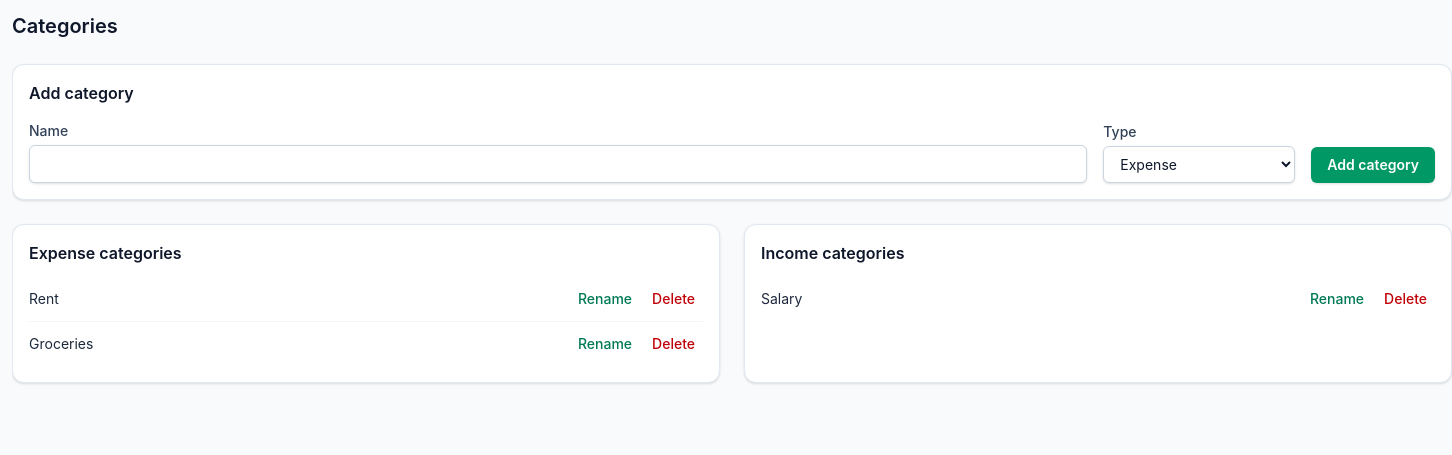
CategoriesView › explains why a category that is still used cannot be deleted
Expected: the text "Rent" is shown, top-left (29, 289), bottom-right (59, 309)
What coordinates should you click on to do the following:
click the button with aria-label "Delete Rent"
I would click on:
 (674, 299)
Its box is top-left (644, 285), bottom-right (703, 313).
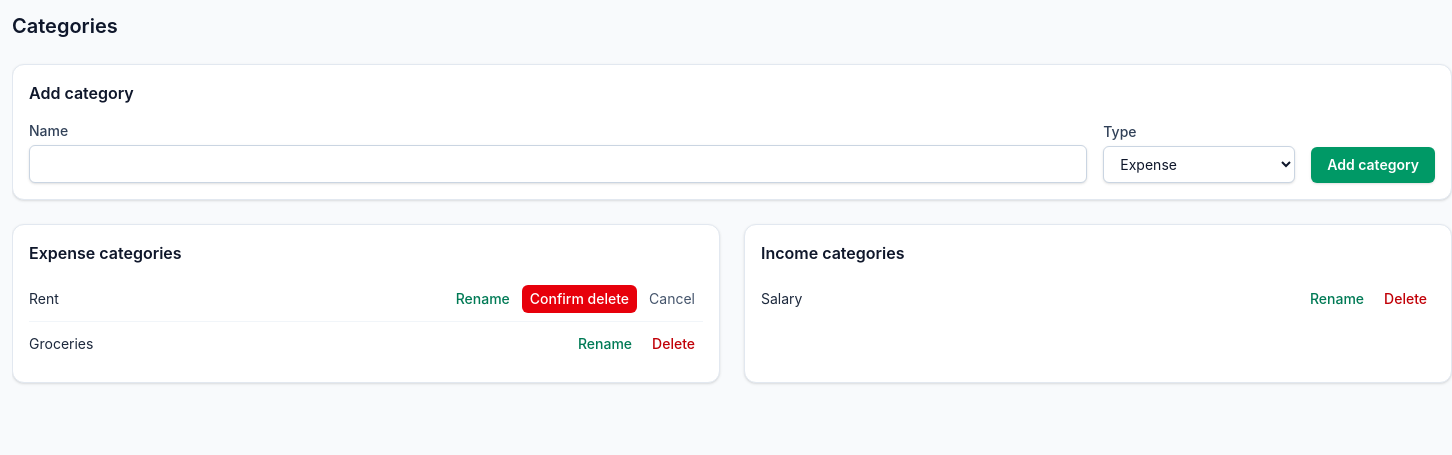
What coordinates should you click on to do the following:
click the button "Confirm delete"
I would click on:
 (579, 299)
Its box is top-left (522, 285), bottom-right (637, 313).
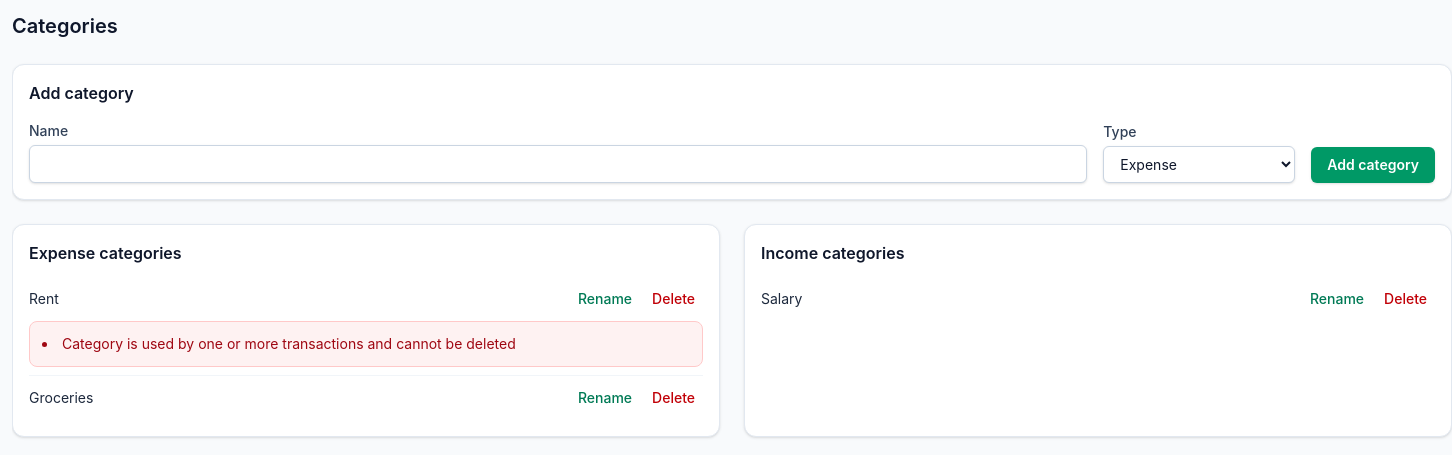
Expected: the text "Rent" is shown, top-left (29, 289), bottom-right (59, 309)
Now the message reads "Category is used by one or more transactions and cannot be deleted", box top-left (62, 335), bottom-right (516, 352)
